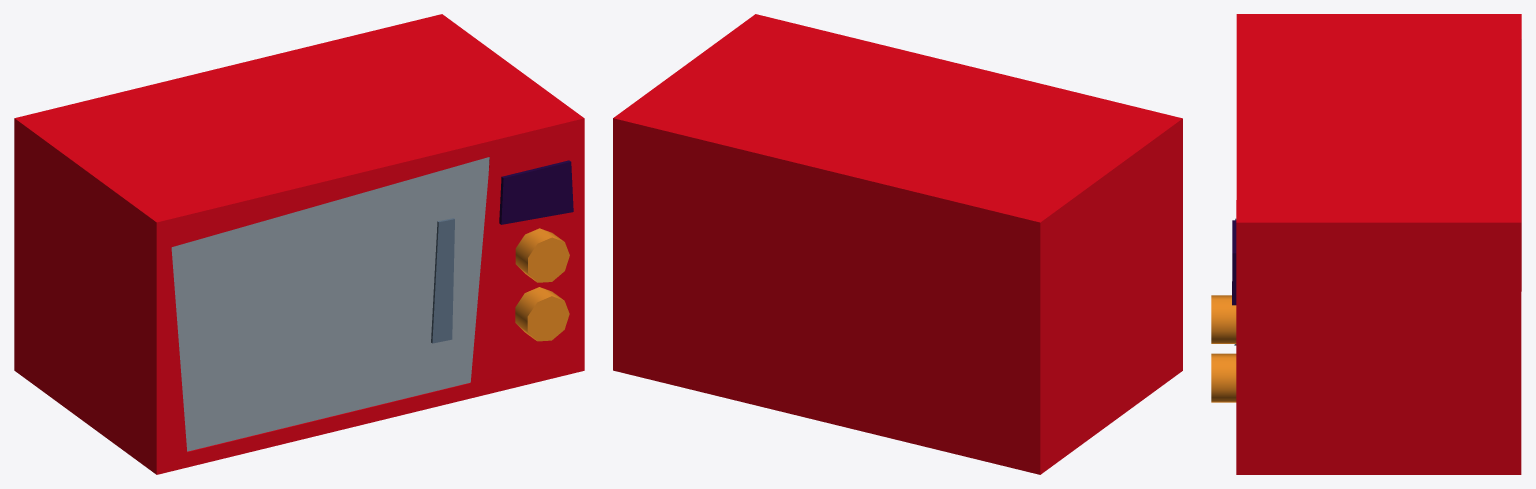
File: minifırın.FBX
3 renders of one model, left to right at view 1: azimuth 30°, elevation 25°; view 2: azimuth 150°, elevation 25°; view 3: azimuth 270°, elevation 25°, orthographic.
Parts seen in each view (by area): view 1: Box033, Object012, Box036, Box035, Cylinder011, Cylinder010; view 2: Box033; view 3: Box033, Cylinder010, Cylinder011, Box036.
Part boxes in pixels (x1,y1,x2,y2): Box033: (14, 14, 584, 474); Object012: (171, 157, 489, 451); Box036: (499, 160, 573, 224); Box035: (431, 218, 454, 343); Cylinder011: (515, 228, 569, 282); Cylinder010: (515, 287, 569, 341); Box033: (613, 14, 1182, 474); Box033: (1236, 14, 1521, 474); Cylinder010: (1211, 353, 1236, 402); Cylinder011: (1211, 295, 1236, 343); Box036: (1232, 220, 1236, 305).
Size of the model in its own units: 29.27 by 16.51 by 18.39.
Materials: 5 (5 with a texture image).
